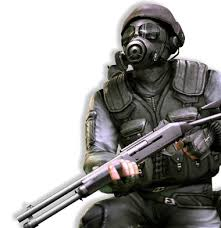gun: (16, 97, 220, 226)
